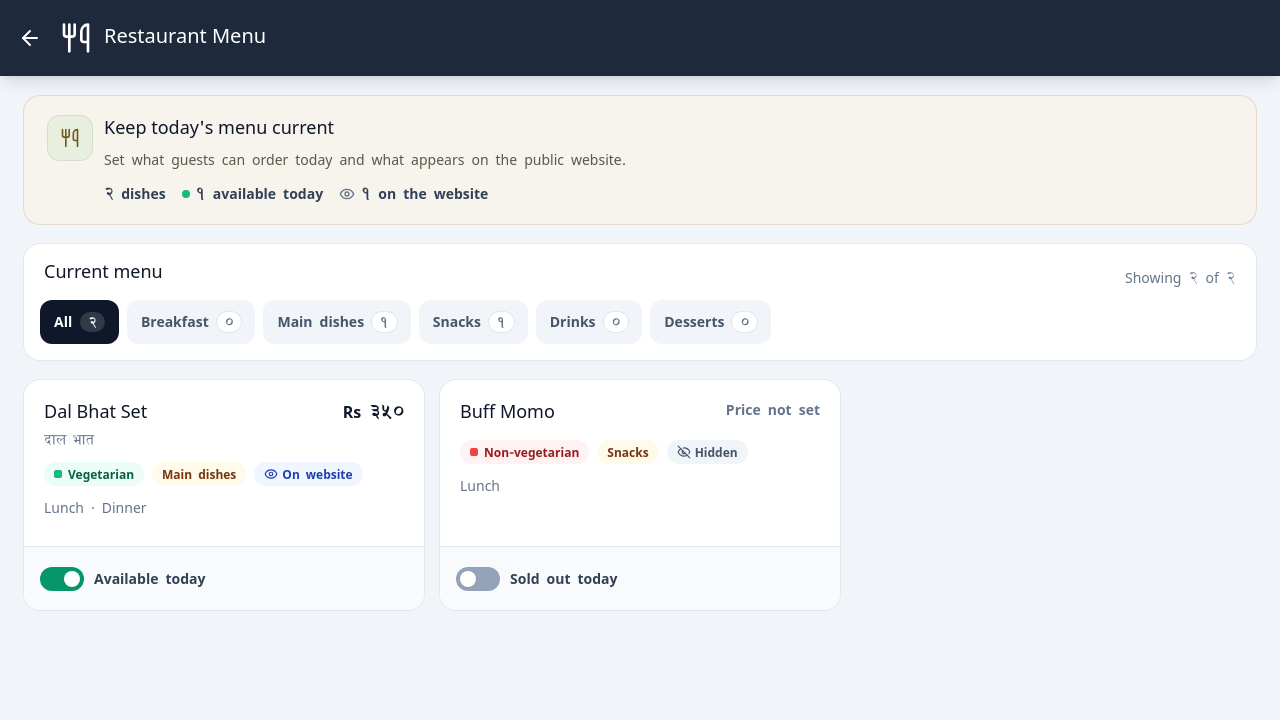
RestaurantMenuPage › lets a manager switch a dish off for today but not edit it
The width and height of the screenshot is (1280, 720).
Click the checkbox named "Dal Bhat Set available today" at (123, 578), box [40,566,206,590]
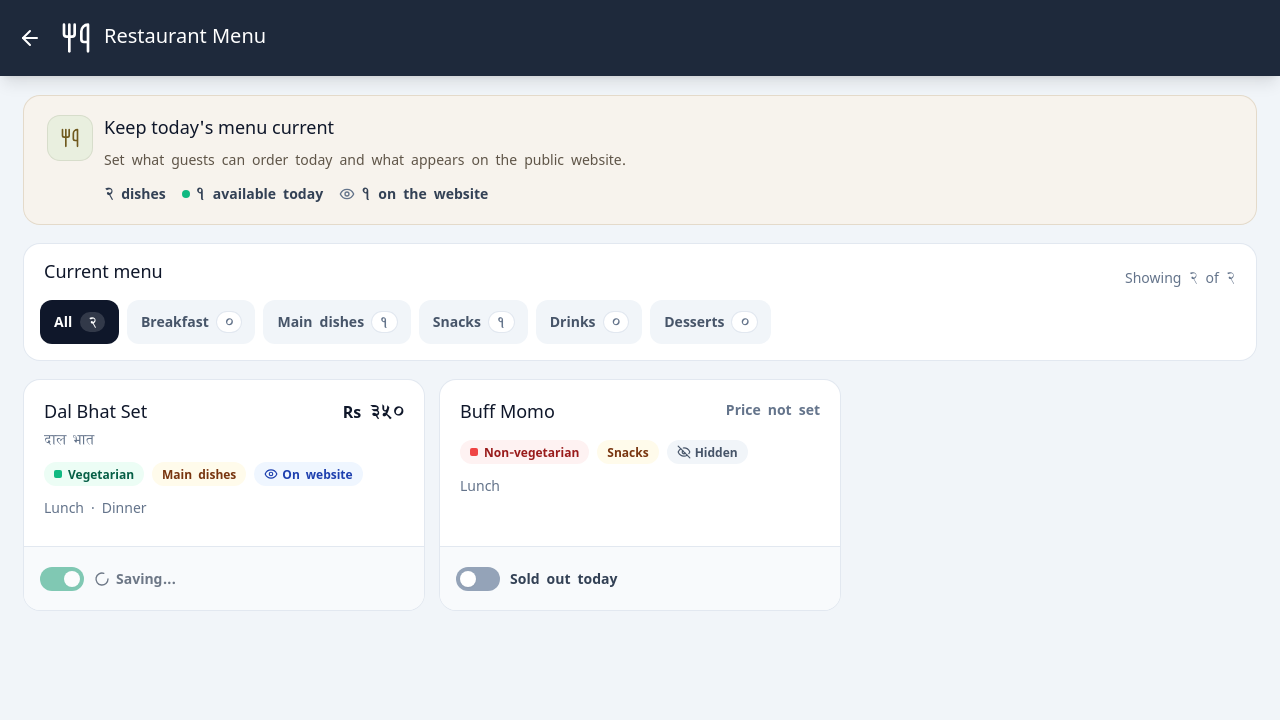
Now the checkbox named "Dal Bhat Set available today" is disabled
Click the checkbox named "Dal Bhat Set available today" at (108, 578), box [40,566,176,590]
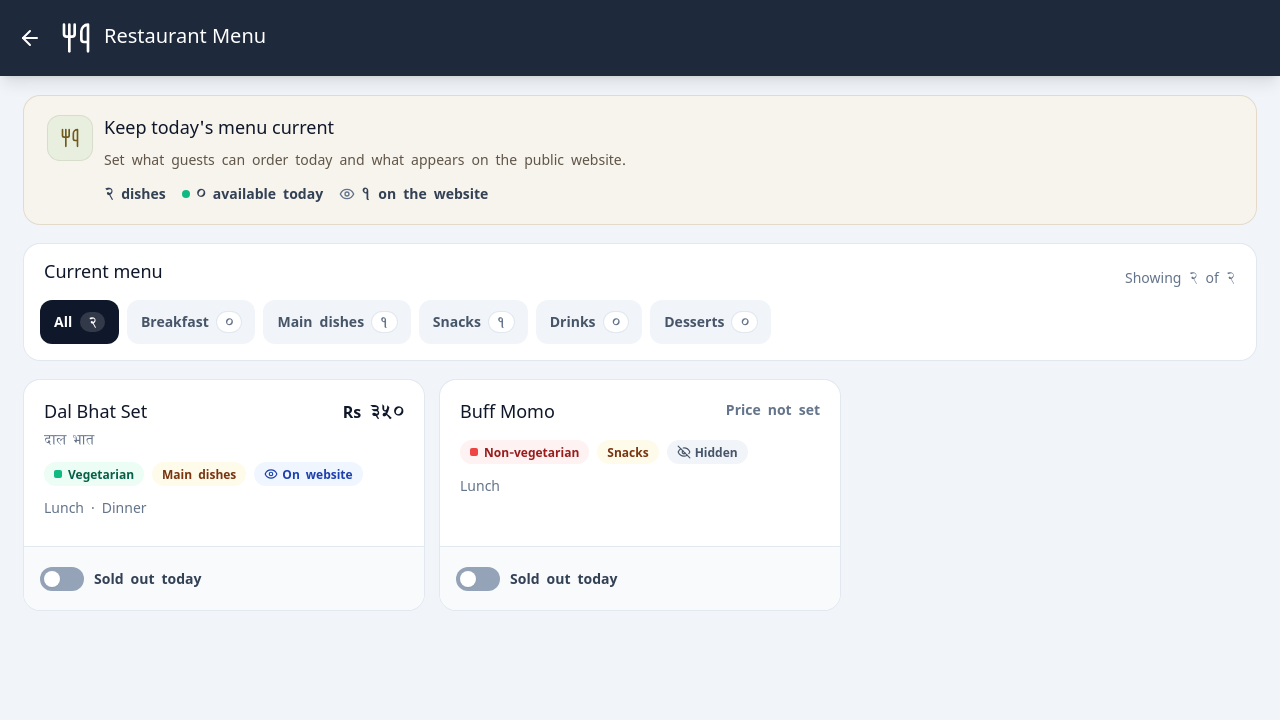
Now the checkbox named "Dal Bhat Set available today" is not checked, box [40,566,202,590]
Now the checkbox named "Dal Bhat Set available today" is enabled, box [40,566,202,590]
